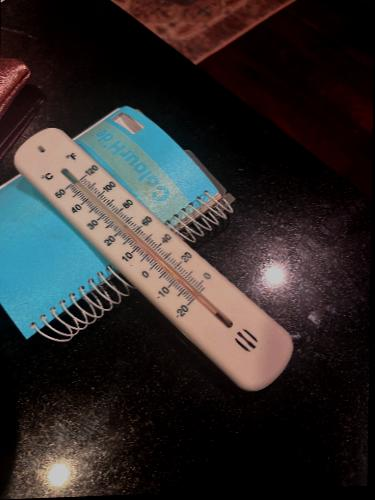thermo: (6, 107, 303, 398)
